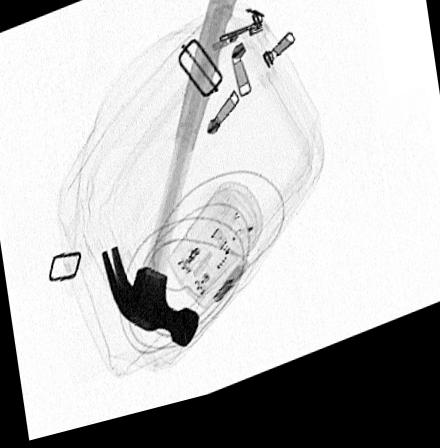Hammer: (101, 0, 244, 357)
